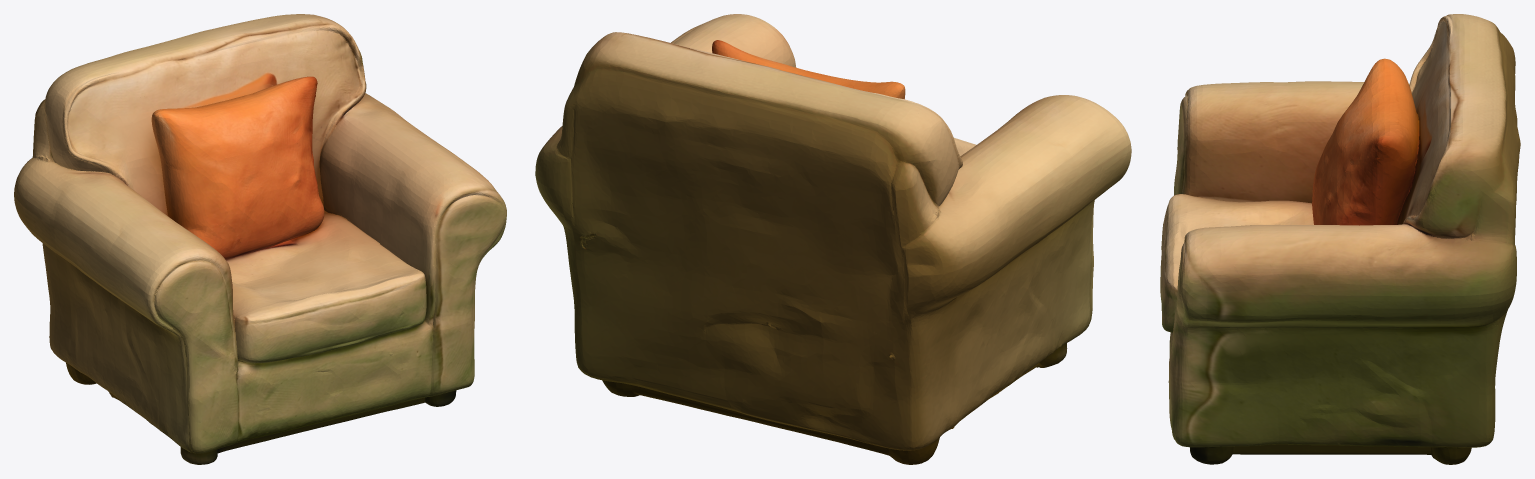
The model's file is armchair.glb.
3 renders of one model, left to right at view 1: azimuth 30°, elevation 25°; view 2: azimuth 150°, elevation 25°; view 3: azimuth 270°, elevation 25°, orthographic. The views are drawn at different scales.
Parts seen in each view (by area): view 1: geometry_0; view 2: geometry_0; view 3: geometry_0.
Part boxes in pixels (box(x1,y1,x2,y2)): geometry_0: box(14, 14, 506, 464); geometry_0: box(535, 14, 1131, 464); geometry_0: box(1160, 14, 1520, 464).
Bounding box in the file's own units: 0.9535 × 0.7641 × 0.7734.
Materials: 1 (1 with a texture image).
